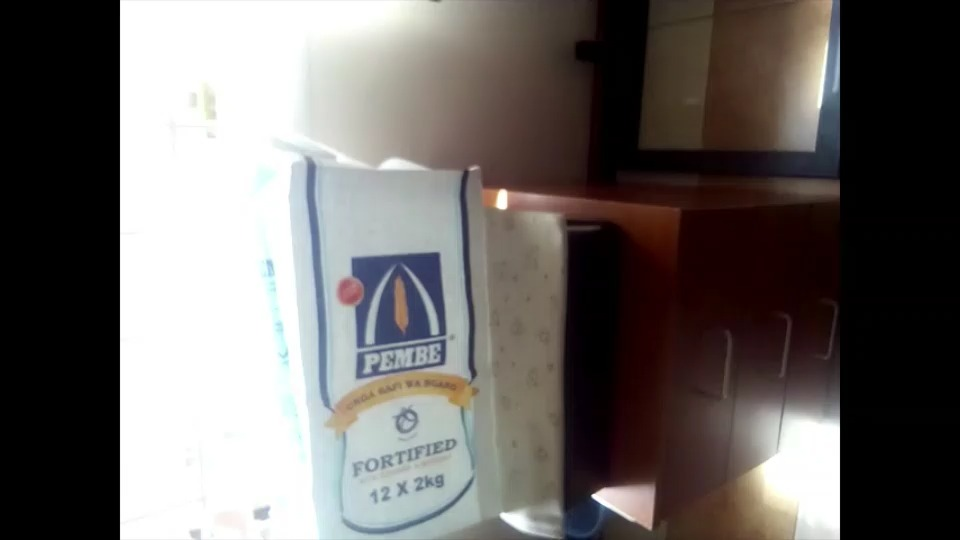wheat_flour_blue_label: (257, 142, 504, 536)
